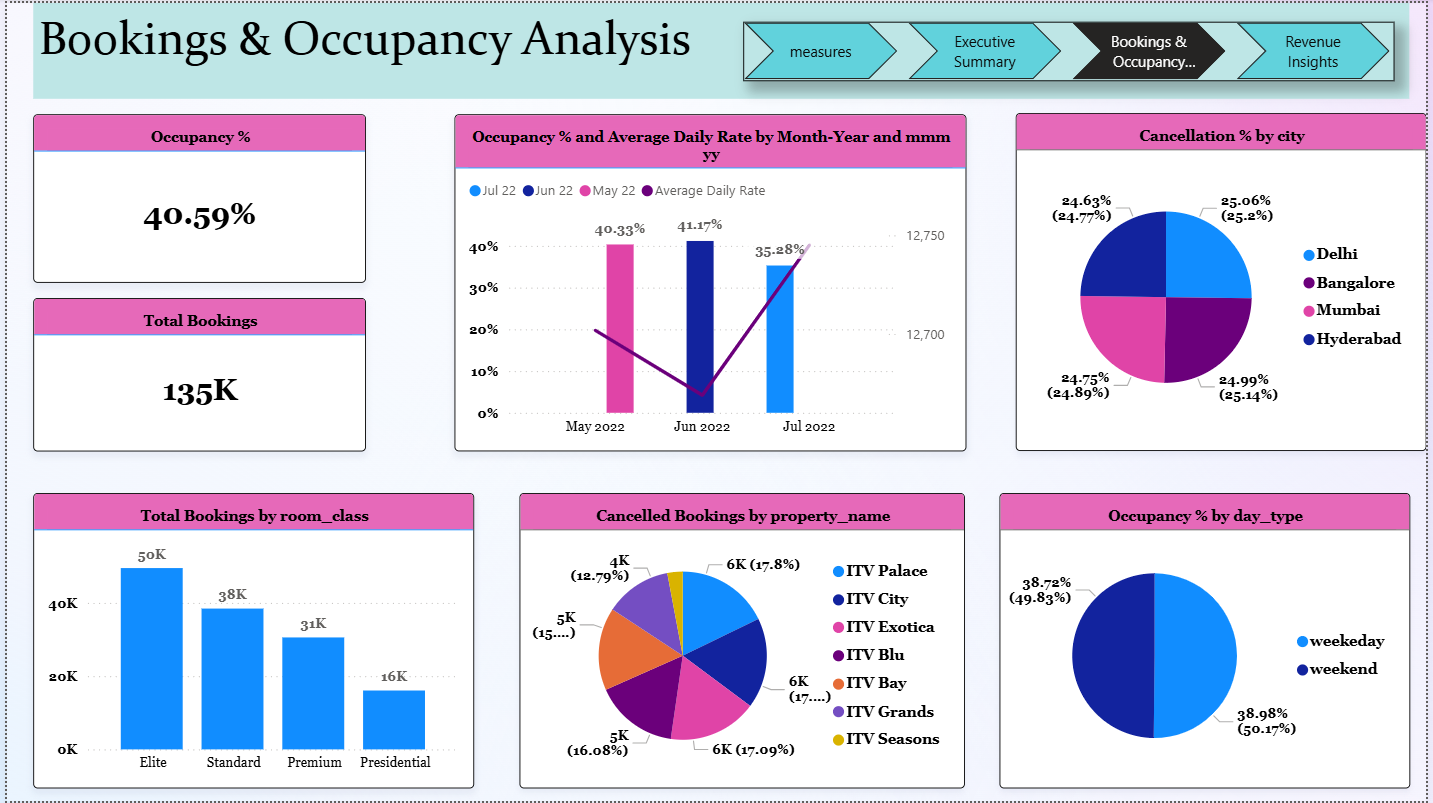

The page's visual inventory and layout, read from the dashboard file:
{"tool":"powerbi","page":{"name":"Bookings & Occupancy Analysis","canvas":[1280,720],"ordinal":2},"visuals":[{"type":"columnChart","fields":{"Category":["dim_rooms.room_class"],"Y":["measures (2).Total Bookings"]},"box":[24.1,442.4,398,266.2],"z":0},{"type":"lineClusteredColumnComboChart","fields":{"Category":["dim_date.Month-Year"],"Y":["measures (2).Occupancy %"],"Y2":["measures (2).Average Daily Rate"],"Series":["dim_date.mmm yy"]},"box":[403.1,100.1,461.4,304.2],"z":1000},{"type":"pieChart","fields":{"Category":["dim_hotels.property_name"],"Y":["measures (2).Cancelled Bookings"]},"box":[462.6,442.4,401.8,266.2],"z":2000},{"type":"pieChart","fields":{"Category":["dim_date.day_type"],"Y":["measures (2).Occupancy %"]},"box":[894.8,442.4,370.1,266.2],"z":3000},{"type":"pieChart","fields":{"Category":["dim_hotels.city"],"Y":["measures (2).Cancellation %"]},"box":[909.9,98.8,370.4,304.9],"z":4000},{"type":"textbox","box":[24.1,0,1240.9,86.2],"z":5000},{"type":"card","title":"Occupancy %","fields":{"Values":["measures (2).Occupancy %"]},"box":[24.1,100.1,300.4,152.1],"z":6000},{"type":"card","title":"Total Bookings","fields":{"Values":["measures (2).Total Bookings"]},"box":[24.1,266.2,300.4,138.2],"z":7000},{"type":"pageNavigator","box":[664.2,16.5,586.8,53.2],"z":8000}]}

Visuals, with their boxes in screenshot pixels (x1, y1, x2, y2), scaled from the page's 1280x720 canvas onto the 1433x803 screenshot:
columnChart - dim_rooms.room_class x measures (2).Total Bookings: <box>27,493,473,790</box>
lineClusteredColumnComboChart - dim_date.Month-Year x measures (2).Occupancy %: <box>451,112,968,451</box>
pieChart - dim_hotels.property_name x measures (2).Cancelled Bookings: <box>518,493,968,790</box>
pieChart - dim_date.day_type x measures (2).Occupancy %: <box>1002,493,1416,790</box>
pieChart - dim_hotels.city x measures (2).Cancellation %: <box>1019,110,1432,450</box>
textbox: <box>27,0,1416,96</box>
"Occupancy %" card: <box>27,112,363,281</box>
"Total Bookings" card: <box>27,297,363,451</box>
pageNavigator: <box>744,18,1401,78</box>
